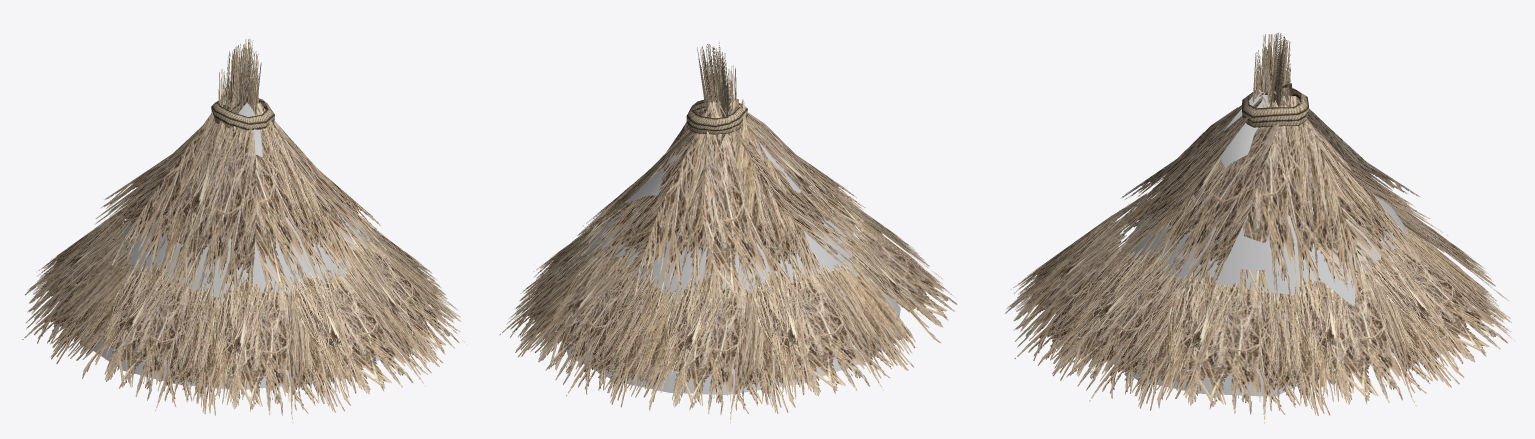
The model's file is jov_rice_rag03b.fbx.
3 views of the same model, side by side, from view 1: azimuth 30°, elevation 25°; view 2: azimuth 150°, elevation 25°; view 3: azimuth 270°, elevation 25° (orthographic). The views are drawn at different scales.
Parts seen in each view (by area): view 1: jov_rice_rag03b; view 2: jov_rice_rag03b; view 3: jov_rice_rag03b.
Boxes of the visible parts, left/top/right/bottom form: jov_rice_rag03b: left=22, top=38, right=467, bottom=422; jov_rice_rag03b: left=499, top=42, right=957, bottom=423; jov_rice_rag03b: left=1005, top=33, right=1518, bottom=423.
Bounding box in the file's own units: 103 × 76.57 × 113.
